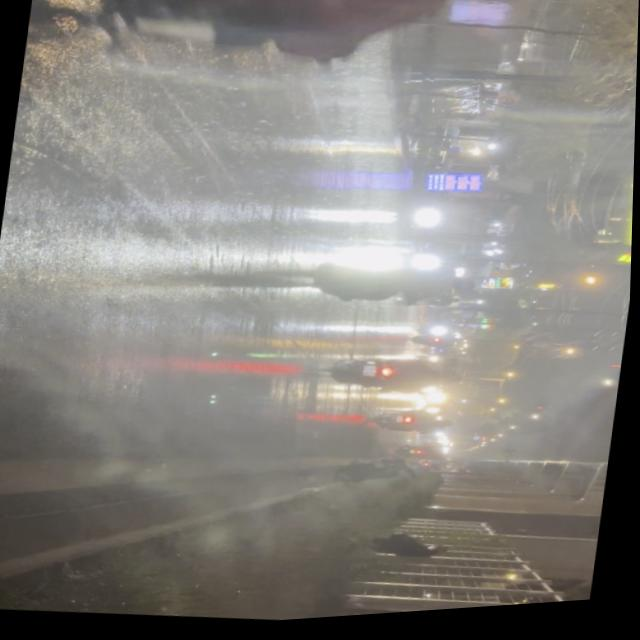helmet: (455, 0, 539, 18)
licenseplate: (22, 0, 538, 116)
